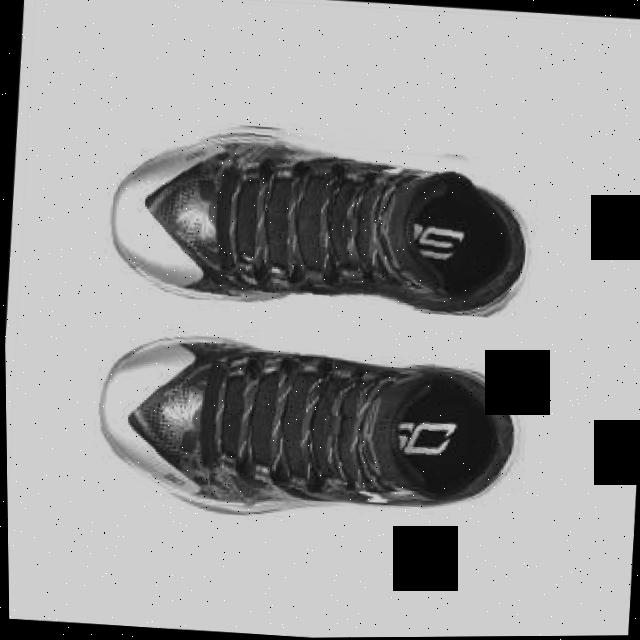shoe: (91, 323, 533, 538), (99, 110, 538, 321), (104, 126, 533, 317), (93, 332, 522, 519)
